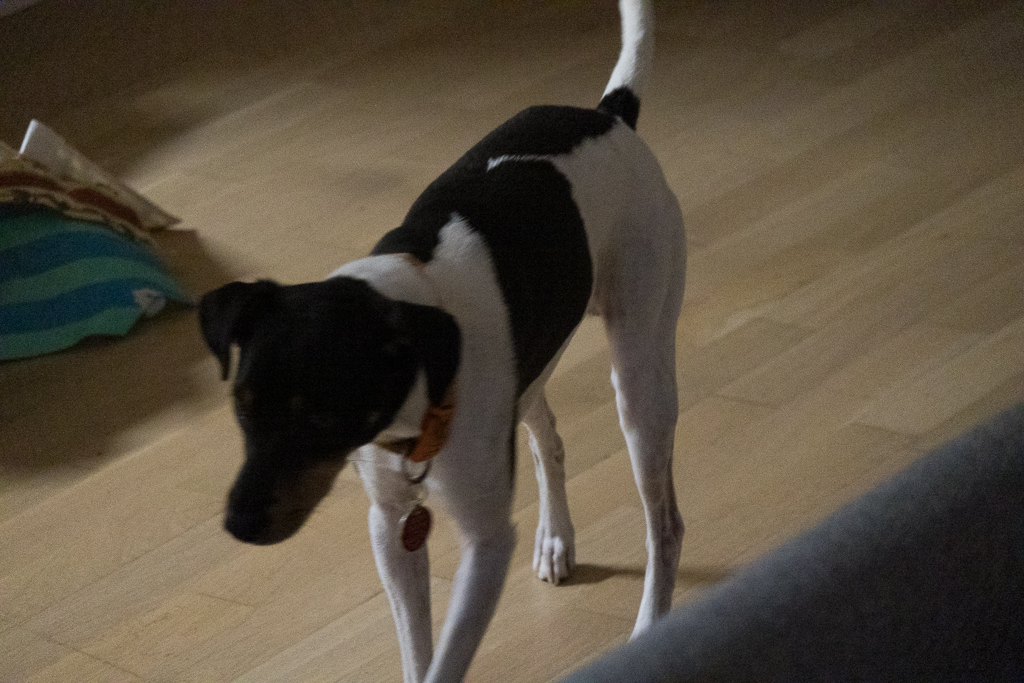Dog: (181, 0, 704, 683)
